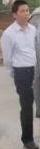boots: (0, 127, 8, 133)
